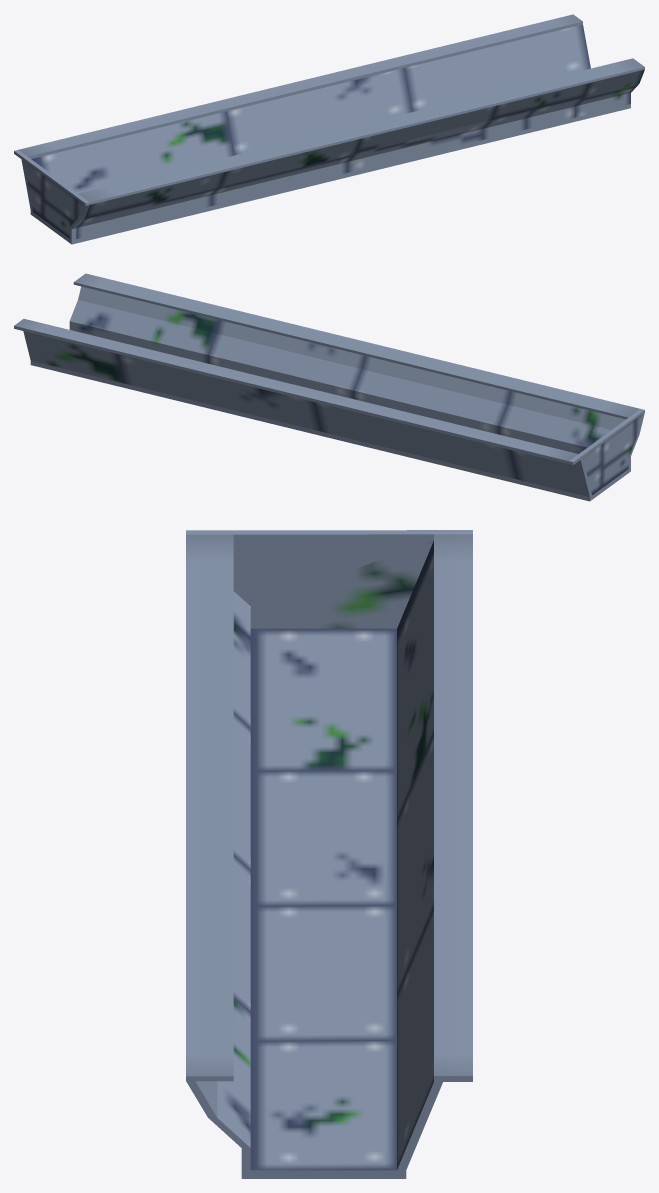
File: Calha.fbx
3 views of the same model, one above another, from view 1: azimuth 30°, elevation 25°; view 2: azimuth 150°, elevation 25°; view 3: azimuth 270°, elevation 25° (orthographic). The views are drawn at different scales.
Visible parts, largest first — view 1: Calha; view 2: Calha; view 3: Calha.
Boxes of the visible parts, left/top/right/bottom form: Calha: left=14, top=14, right=644, bottom=244; Calha: left=14, top=273, right=644, bottom=501; Calha: left=186, top=530, right=472, bottom=1178.
Bounding box in the file's own units: 468 × 104 × 41.16.
